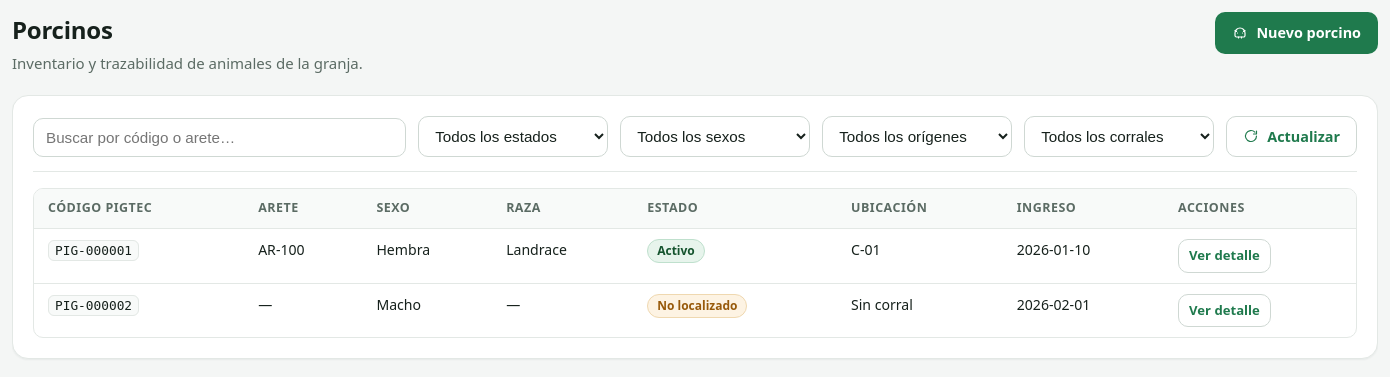
Test case: AnimalsPage: listado › filtra por corral
The image size is (1390, 377).
Expected: the text "PIG-000001" is shown, [48,240,139,261]
Select "C-01" in the 4th dropdown named "Filtrar por corral": (1119, 137) [1024,116,1214,157]
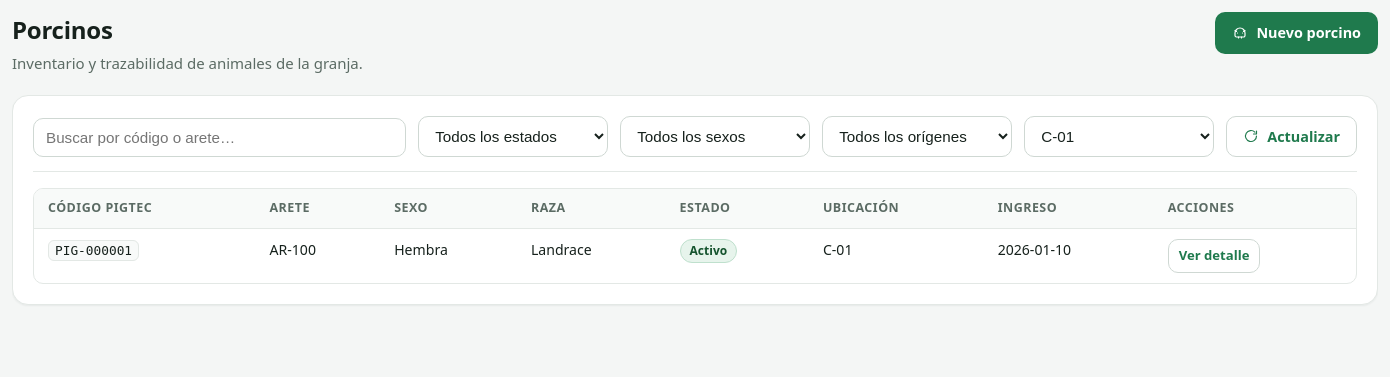
Expected: the text "PIG-000001" is shown, [48,240,139,261]
Expected: the text "PIG-000002" is gone
